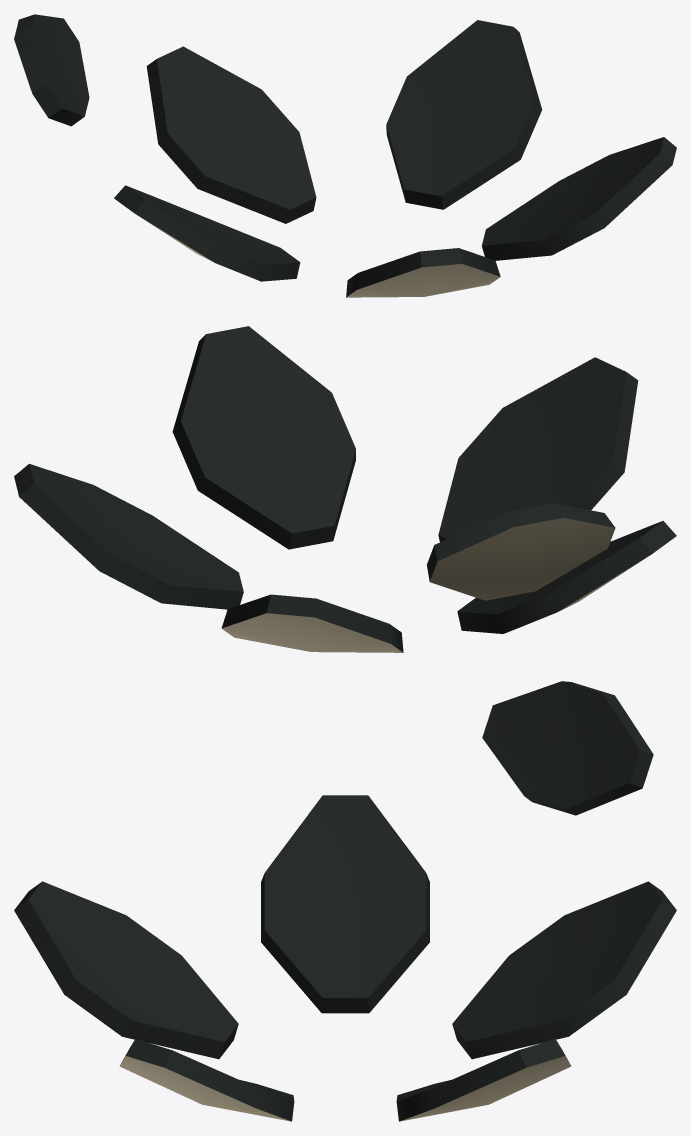
File: shell_sable_c2.glb
The picture shows the model from 3 angles, top to bottom: view 1: azimuth 30°, elevation 25°; view 2: azimuth 150°, elevation 25°; view 3: azimuth 270°, elevation 25°; orthographic projection. The views are drawn at different scales.
Parts seen in each view (by area): view 1: Pod; view 2: Pod; view 3: Pod.
Boxes of the visible parts, x1,y1,x2,y2 form: Pod: (14,14,676,297); Pod: (14,326,676,652); Pod: (14,681,676,1121).
Bounding box in the file's own units: 1.32 × 0.5294 × 1.32.
